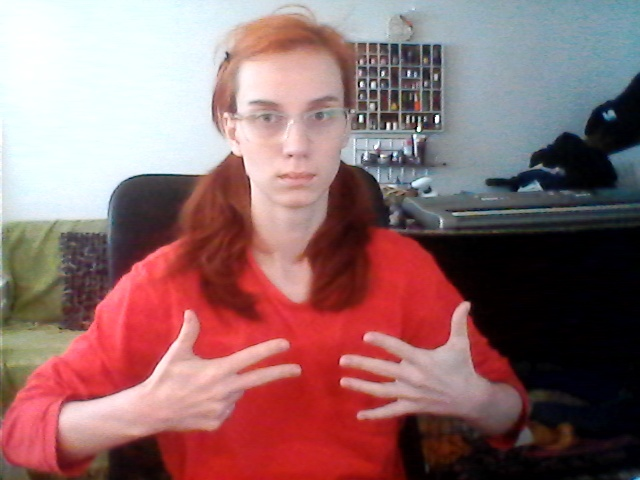osem: (155, 298, 485, 434)
